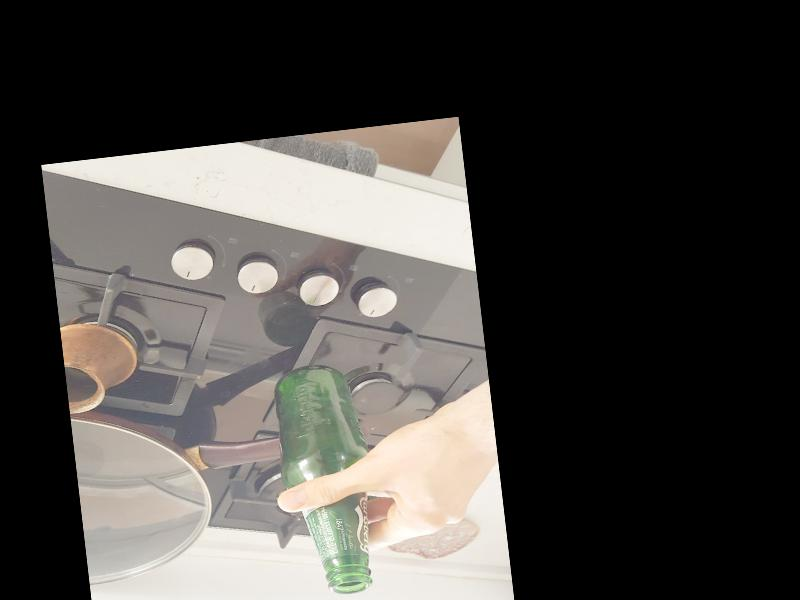Beer: (271, 362, 374, 597)
